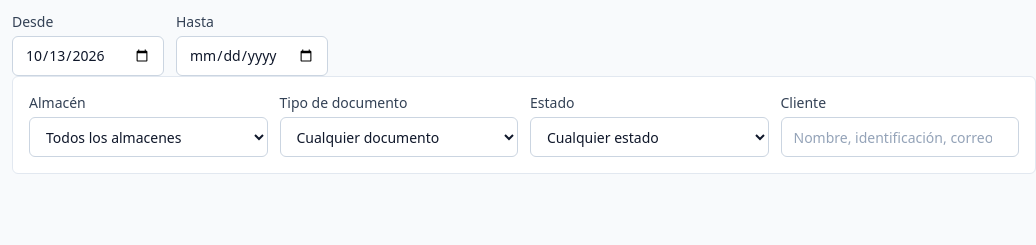
Test: HistoryFilters › shows an empty-result message and a search error without breaking the bar
This screenshot has width=1036, height=245.
Type "zzz" into the search field named "Buscar cliente" at (900, 137), box [780,117,1019,157]
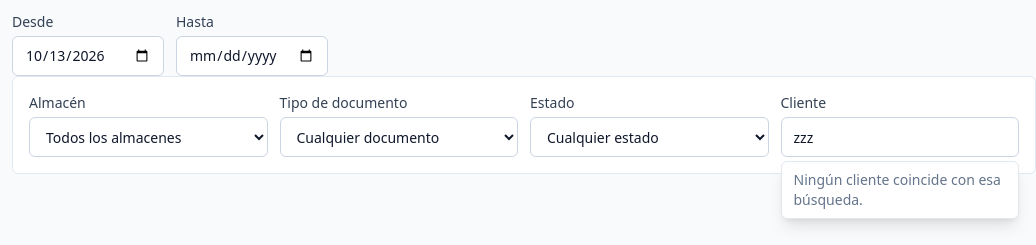
Now the text "Ningún cliente coincide con esa búsqueda." is shown, box [782,162,1018,218]
Replace the text in the search field named "Buscar cliente" with "zzzz" at (900, 137), box [780,117,1019,157]
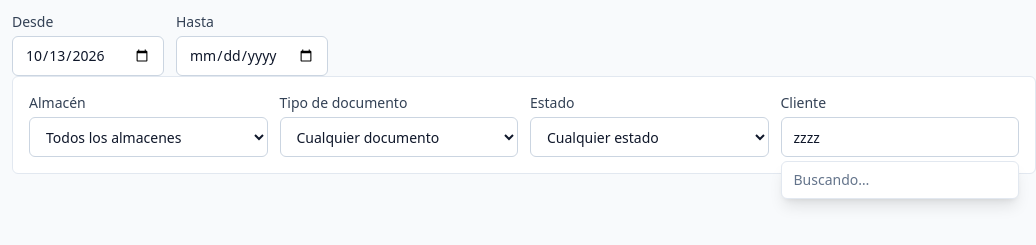
Expected: the dropdown labelled "Estado" is shown, [530,117,768,157]
Now the text "Ningún cliente coincide con esa búsqueda." is gone
